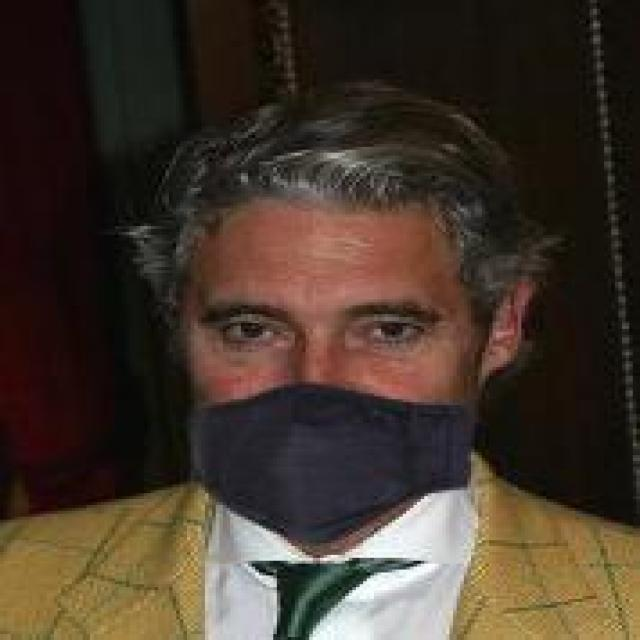mask: (115, 103, 554, 534)
